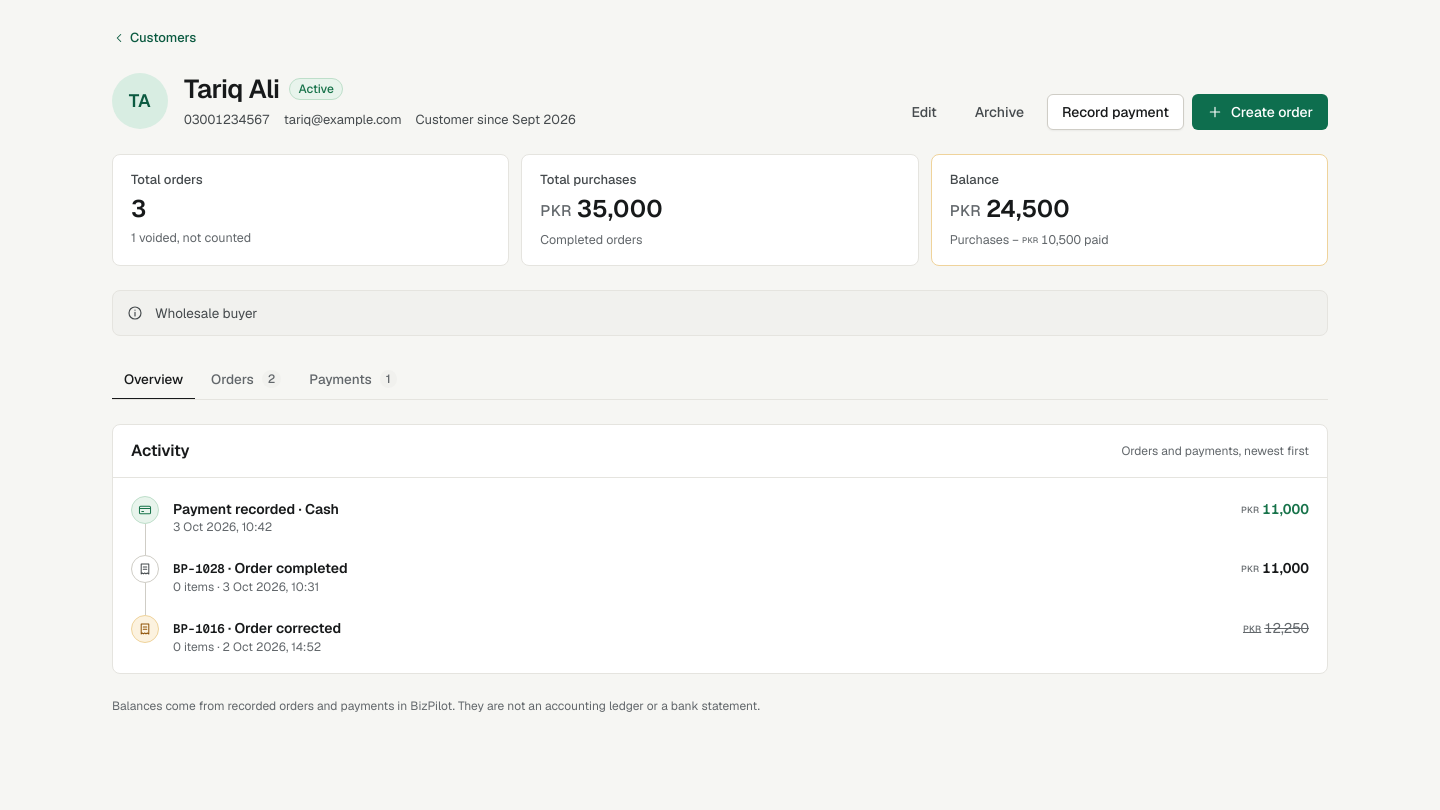
Test: Customer Frontend Slice (CUS-003) › CustomerDetail (R5 design) › lists orders and payments in their tabs
Click the tab "Orders 2": (246, 380) [199,360,293,400]
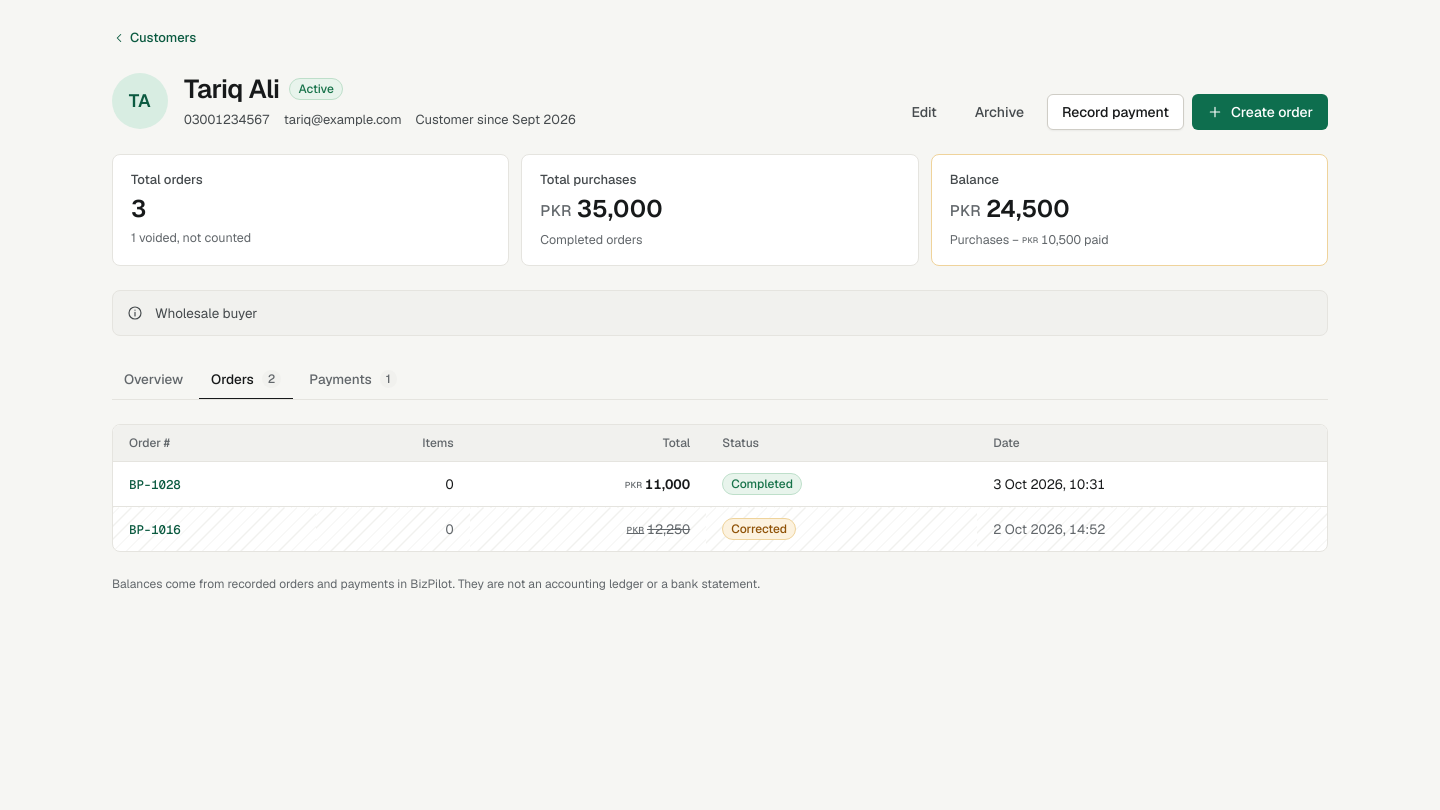
Expected: the table shows "Corrected", [731,521,787,537]
Click the tab "Payments 1": (353, 380) [297,360,409,400]
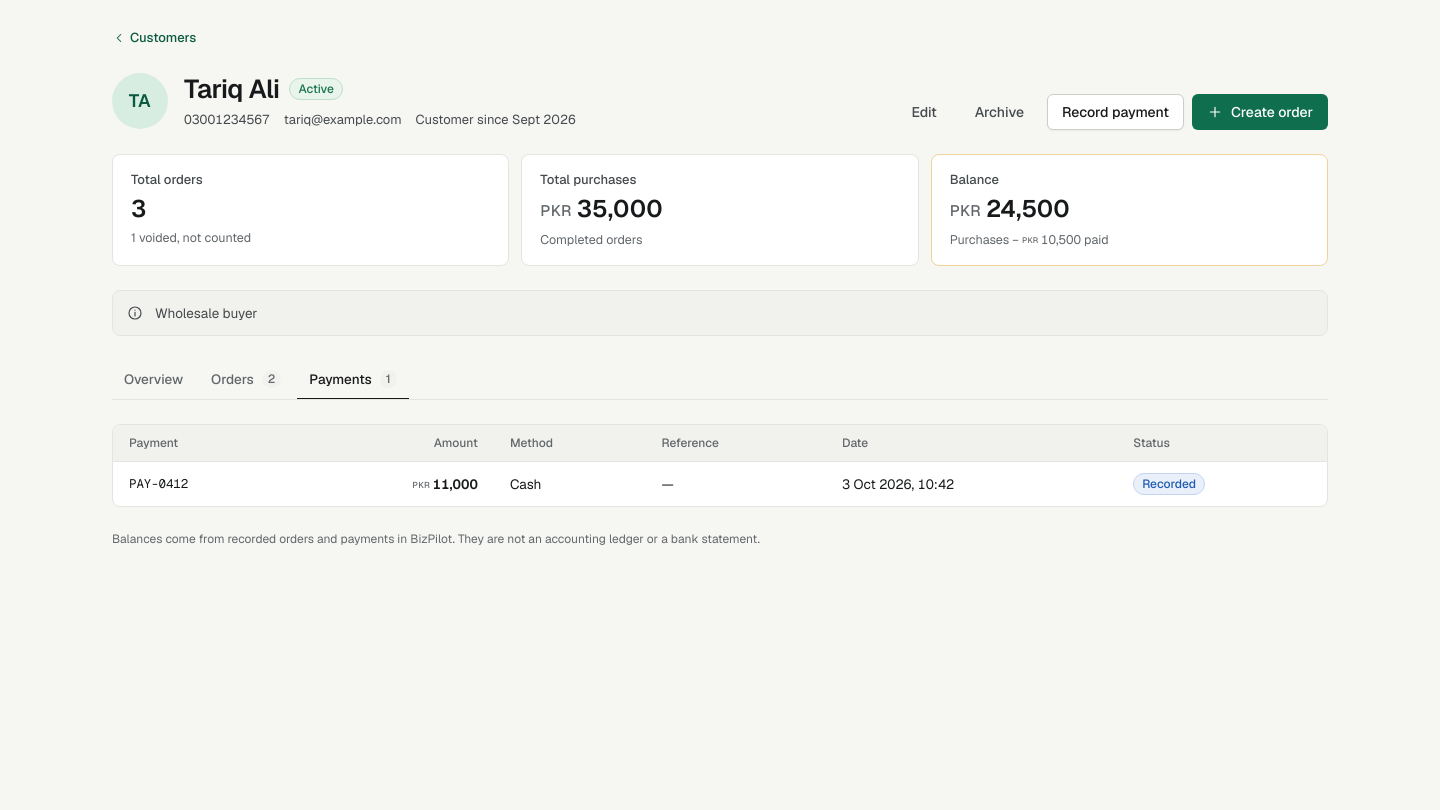
Expected: the table shows "PAY-0412", [129,475,188,492]
